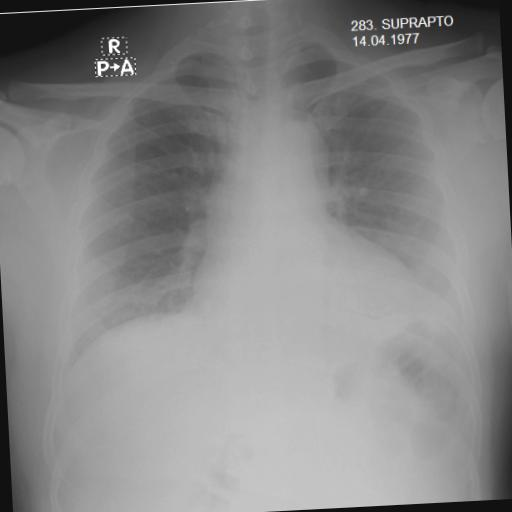kardiomegali: (38, 22, 476, 414)
